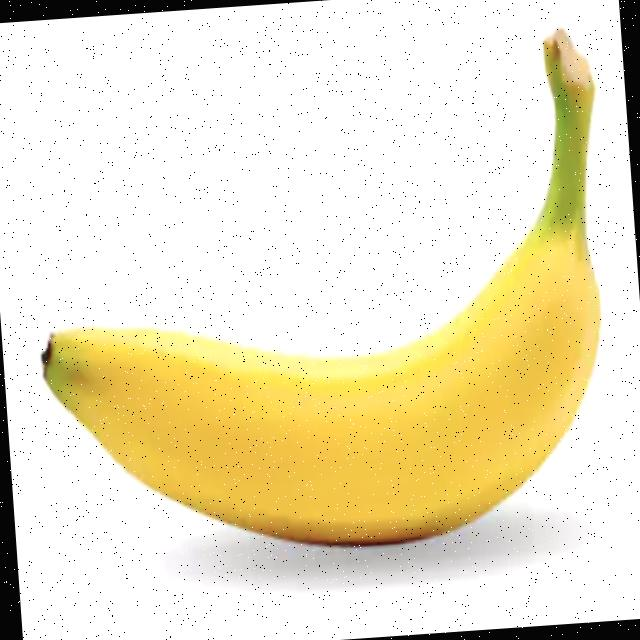Ripe: (22, 66, 621, 572)
